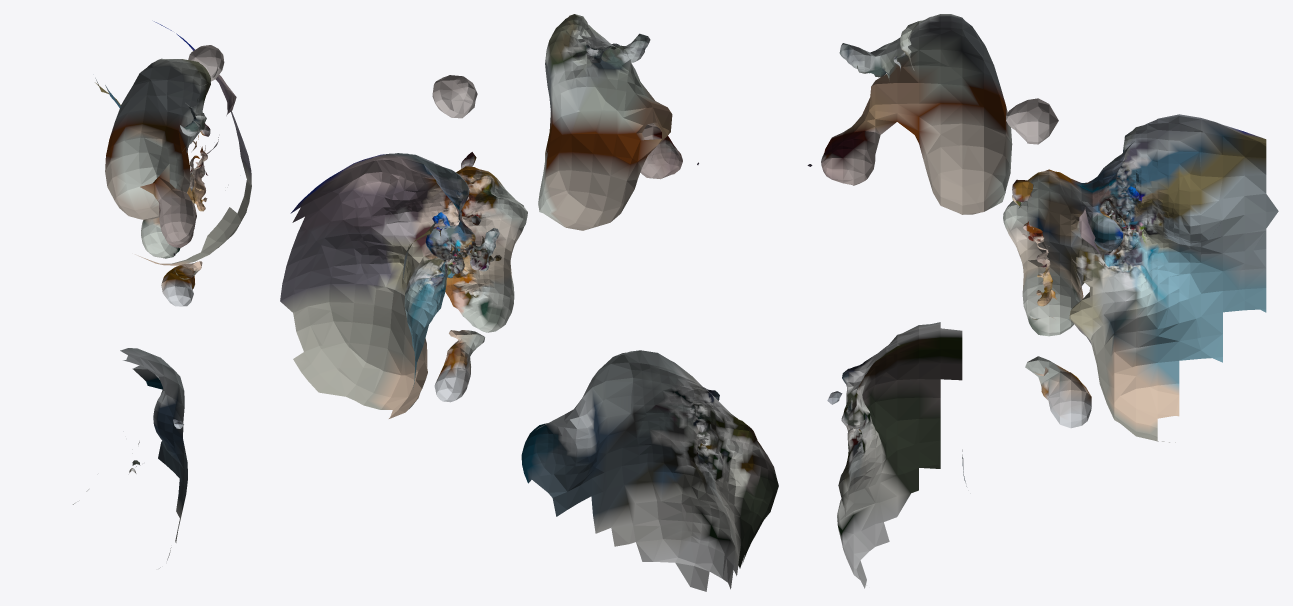
Rendered from room_01.glb.
The picture shows the model from 3 angles, left to right: view 1: azimuth 30°, elevation 25°; view 2: azimuth 150°, elevation 25°; view 3: azimuth 270°, elevation 25°; orthographic projection. The views are drawn at different scales.
Parts seen in each view (by area): view 1: geometry_0; view 2: geometry_0; view 3: geometry_0.
Part boxes in pixels (x1=…): geometry_0: x1=73, y1=21, x2=251, y2=568; geometry_0: x1=280, y1=14, x2=778, y2=591; geometry_0: x1=807, y1=14, x2=1278, y2=588.
Size of the model in its own units: 4.34 by 6.43 by 4.48.
